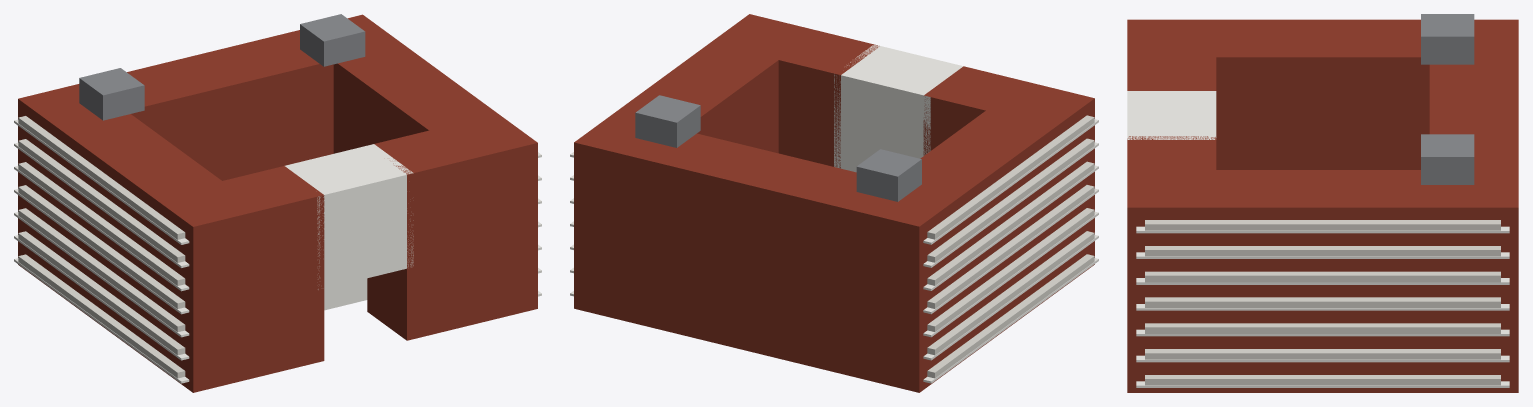
File: mega-boys-hostel.glb
3 views of the same model, side by side, from view 1: azimuth 30°, elevation 25°; view 2: azimuth 150°, elevation 25°; view 3: azimuth 270°, elevation 25° (orthographic). The views are drawn at different scales.
Parts seen in each view (by area): view 1: Mega_Boys_Hostel_MBH; view 2: Mega_Boys_Hostel_MBH; view 3: Mega_Boys_Hostel_MBH.
Boxes of the visible parts, x1,y1,x2,y2 form: Mega_Boys_Hostel_MBH: (14,14,541,392); Mega_Boys_Hostel_MBH: (570,14,1098,392); Mega_Boys_Hostel_MBH: (1127,14,1518,392).
Bounding box in the file's own units: 52.3 × 26.5 × 44.
